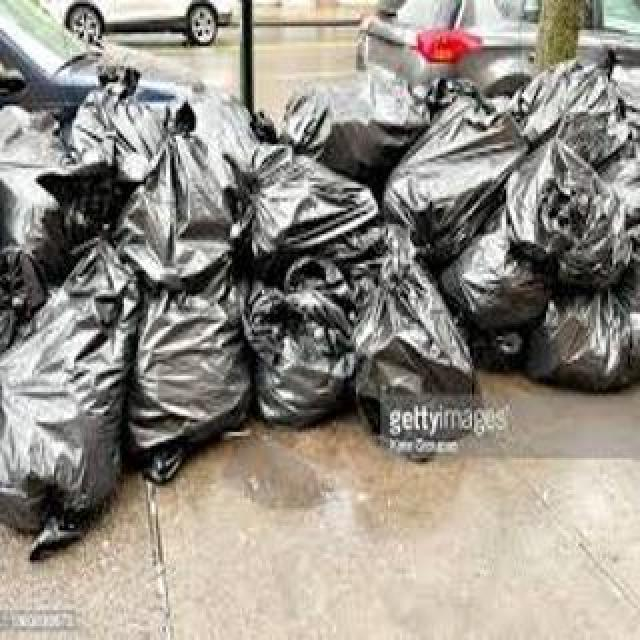high trash: (0, 55, 640, 554)
